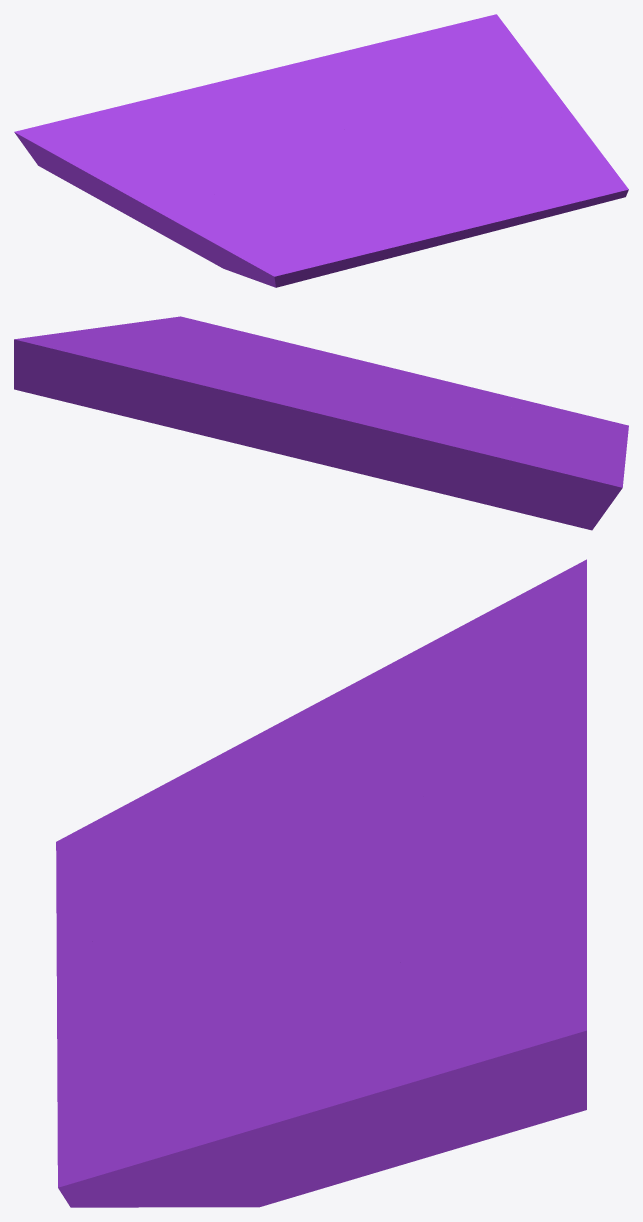
Rendered from Window_146_3_chunks.fbx.
3 views of the same model, one above another, from view 1: azimuth 30°, elevation 25°; view 2: azimuth 150°, elevation 25°; view 3: azimuth 270°, elevation 25° (orthographic). The views are drawn at different scales.
Parts seen in each view (by area): view 1: Window_146_3_2, Window_146_3_1, Window_146_3_3, Window_146_3_4, Window_146_3_18, Window_146_3_13, Window_146_3_17, Window_146_3_11, Window_146_3_14, Window_146_3_15, Window_146_3_10, Window_146_3_6 (+2 smaller); view 2: Window_146_3_3, Window_146_3_17, Window_146_3_18, Window_146_3_4, Window_146_3_2, Window_146_3_13, Window_146_3_1, Window_146_3_14, Window_146_3_11, Window_146_3_15, Window_146_3_6, Window_146_3_10 (+2 smaller); view 3: Window_146_3_4, Window_146_3_13, Window_146_3_2, Window_146_3_3, Window_146_3_1, Window_146_3_17, Window_146_3_14, Window_146_3_11, Window_146_3_18, Window_146_3_15, Window_146_3_6, Window_146_3_10 (+2 smaller).
Boxes of the visible parts, x1,y1,x2,y2 form: Window_146_3_2: [240, 69, 362, 218]; Window_146_3_1: [155, 184, 331, 282]; Window_146_3_3: [273, 31, 438, 130]; Window_146_3_4: [428, 14, 564, 121]; Window_146_3_18: [14, 111, 169, 234]; Window_146_3_13: [491, 105, 628, 214]; Window_146_3_17: [100, 76, 249, 157]; Window_146_3_11: [389, 163, 570, 236]; Window_146_3_14: [362, 119, 492, 201]; Window_146_3_15: [133, 157, 253, 243]; Window_146_3_10: [360, 187, 471, 257]; Window_146_3_6: [345, 100, 479, 144]; Window_146_3_3: [96, 360, 331, 462]; Window_146_3_17: [324, 418, 528, 500]; Window_146_3_18: [471, 445, 625, 530]; Window_146_3_4: [14, 327, 201, 409]; Window_146_3_2: [296, 389, 497, 464]; Window_146_3_13: [100, 316, 257, 353]; Window_146_3_1: [486, 404, 628, 453]; Window_146_3_14: [186, 349, 408, 392]; Window_146_3_11: [254, 334, 409, 386]; Window_146_3_15: [467, 422, 625, 459]; Window_146_3_6: [201, 353, 340, 392]; Window_146_3_10: [408, 372, 481, 393]; Window_146_3_4: [253, 963, 586, 1207]; Window_146_3_13: [57, 1041, 321, 1207]; Window_146_3_2: [167, 780, 586, 917]; Window_146_3_3: [384, 812, 586, 983]; Window_146_3_1: [56, 713, 305, 892]; Window_146_3_17: [383, 644, 586, 799]; Window_146_3_14: [177, 912, 336, 1045]; Window_146_3_11: [57, 947, 209, 1130]; Window_146_3_18: [344, 559, 586, 719]; Window_146_3_15: [299, 688, 424, 808]; Window_146_3_6: [323, 893, 404, 1028]; Window_146_3_10: [56, 917, 227, 1010].
Size of the model in its own units: 1274 by 242 by 607.
